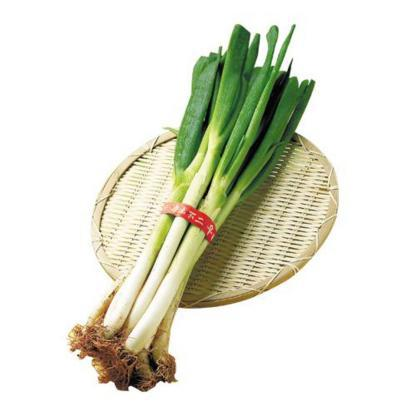green onion: (72, 29, 311, 388)
